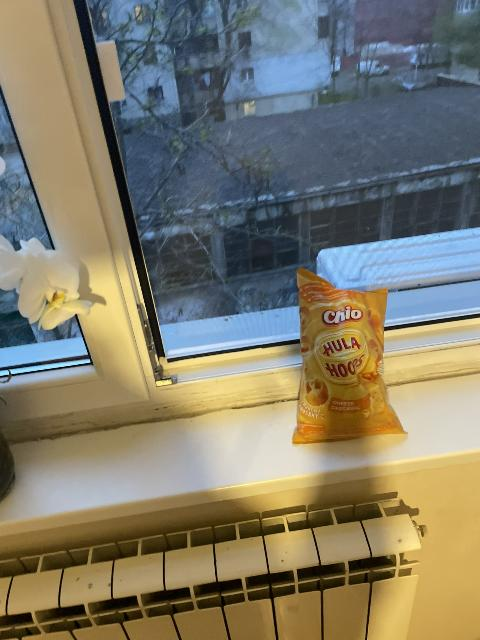Chio Hula Hoops Cheese 70g: (289, 271, 399, 445)
